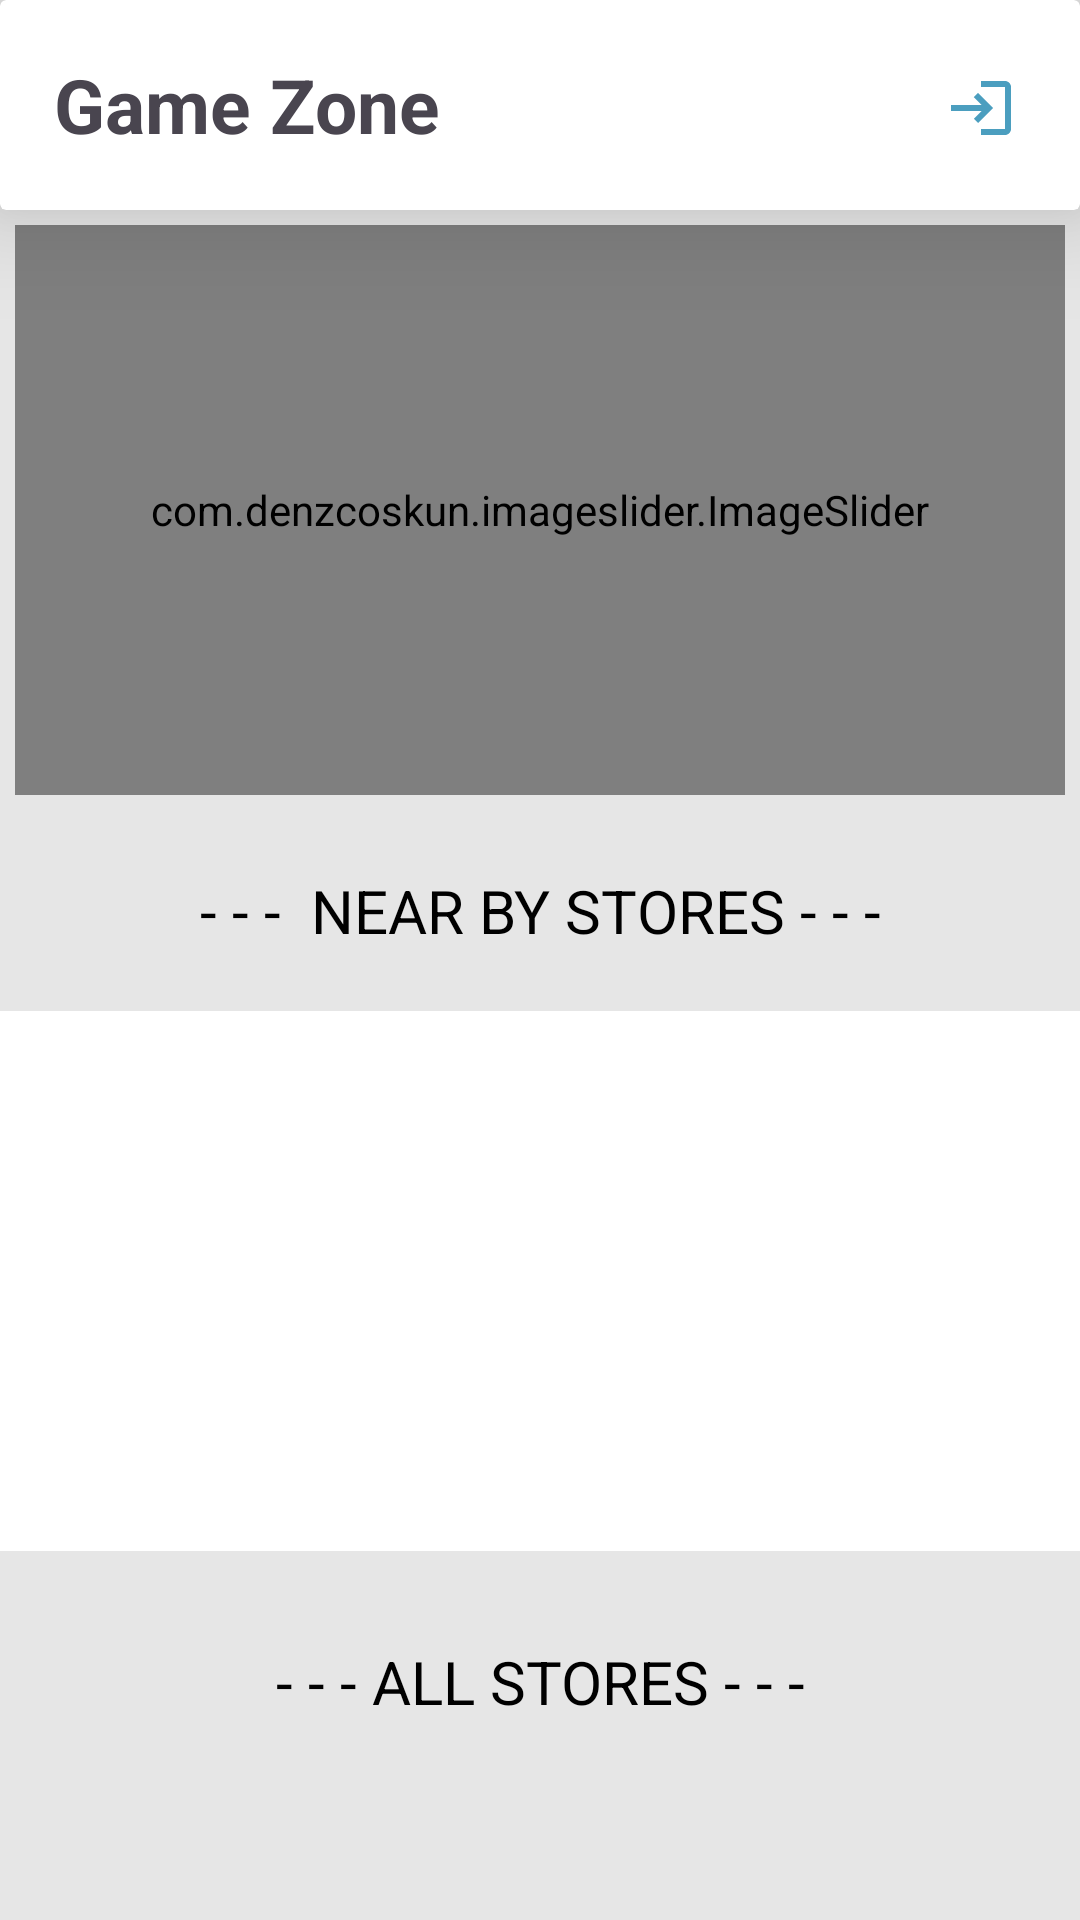

Locate icon controls on the screen. Image size 1080px x 1920px, boxes as (x1, y1, x2, y2).
login: (951, 81, 1011, 135)
